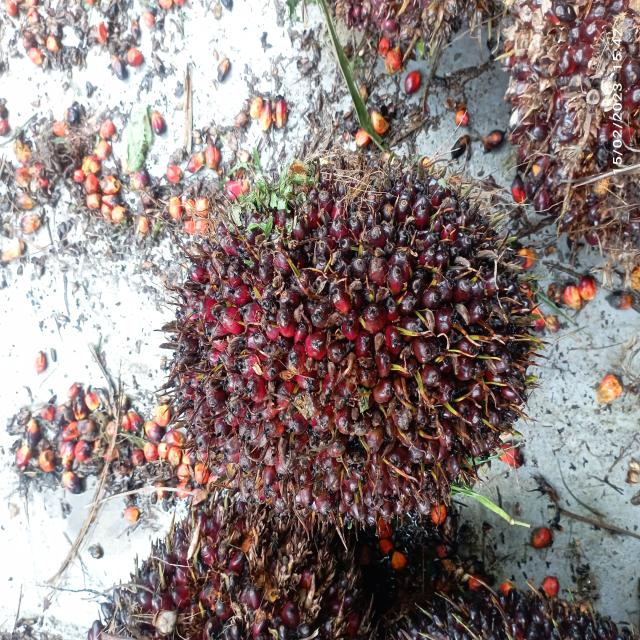fraksi 1: (136, 116, 558, 536)
